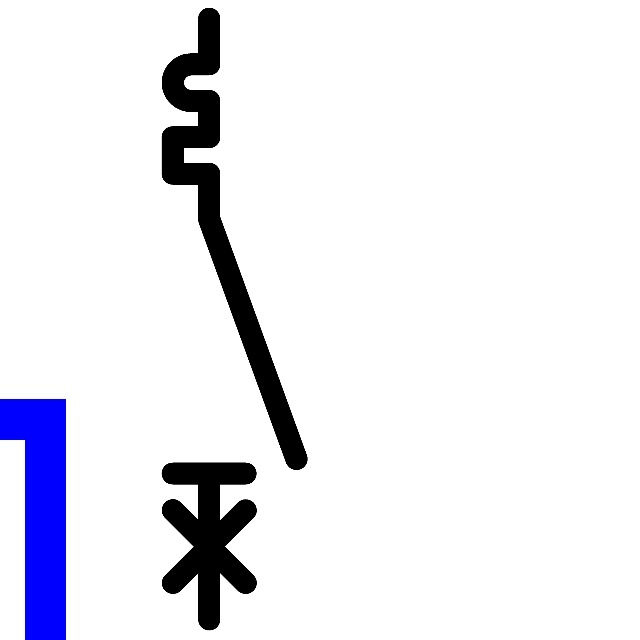interruptor_termomagnetico: (157, 3, 311, 635)
